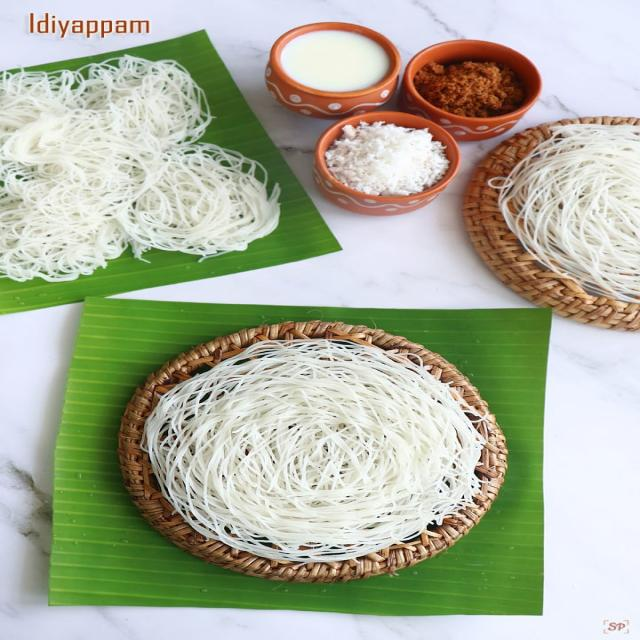IDIYAPPAM: (145, 335, 467, 569), (0, 40, 286, 284), (507, 119, 639, 307)
PODI: (427, 55, 523, 109)
